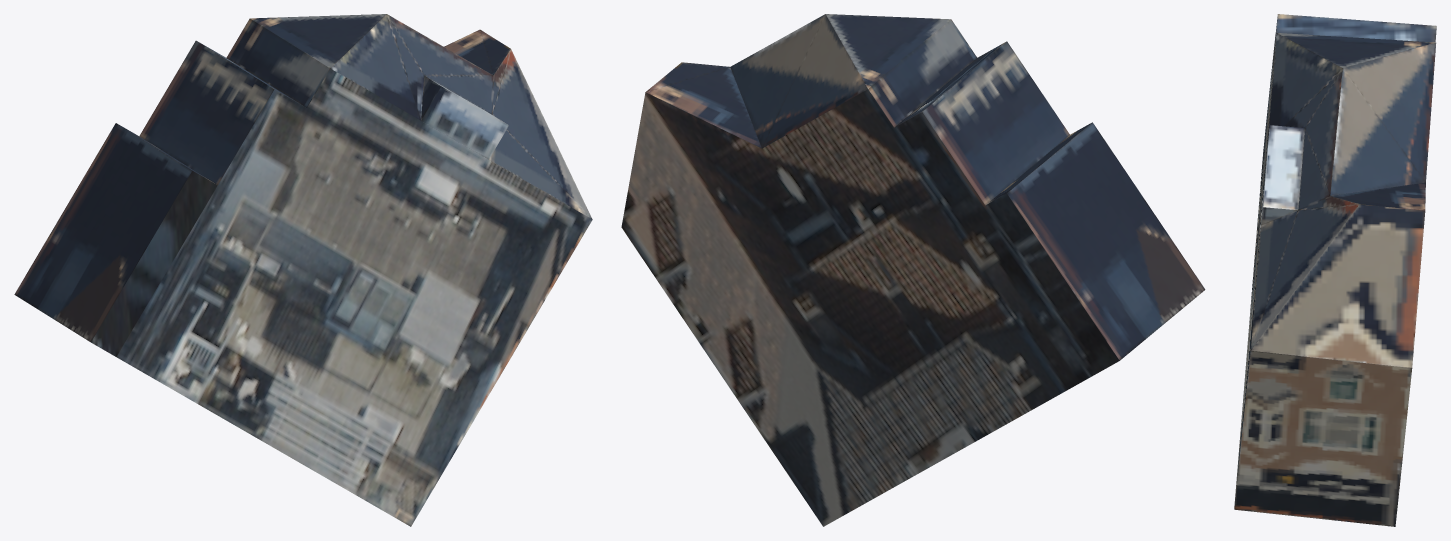
3 renders of one model, left to right at view 1: azimuth 30°, elevation 25°; view 2: azimuth 150°, elevation 25°; view 3: azimuth 270°, elevation 25°, orthographic. The views are drawn at different scales.
Visible parts, largest first — view 1: BAG_0599100000671718 (×5); view 2: BAG_0599100000671718 (×5); view 3: BAG_0599100000671718 (×5).
Boxes of the visible parts, x1,y1,x2,y2 form: BAG_0599100000671718 (×5): (14, 14, 592, 526); BAG_0599100000671718 (×5): (621, 14, 1205, 526); BAG_0599100000671718 (×5): (1234, 14, 1436, 526).
Size of the model in its own units: 18.32 by 16.76 by 6.55.
1 material, 1 textured.
